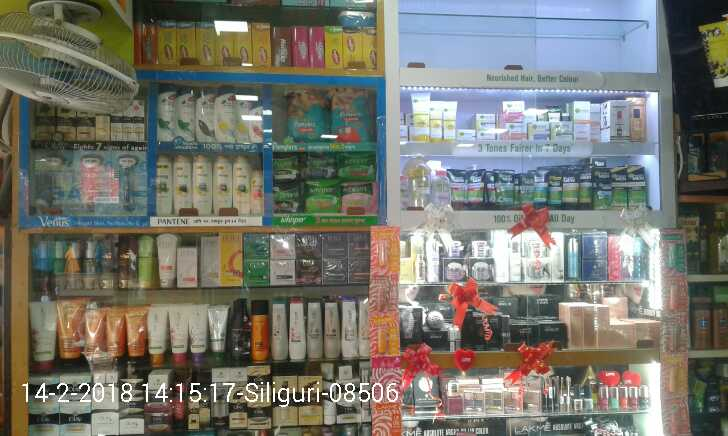venus: (34, 151, 75, 216), (75, 151, 114, 216), (114, 152, 146, 216)
